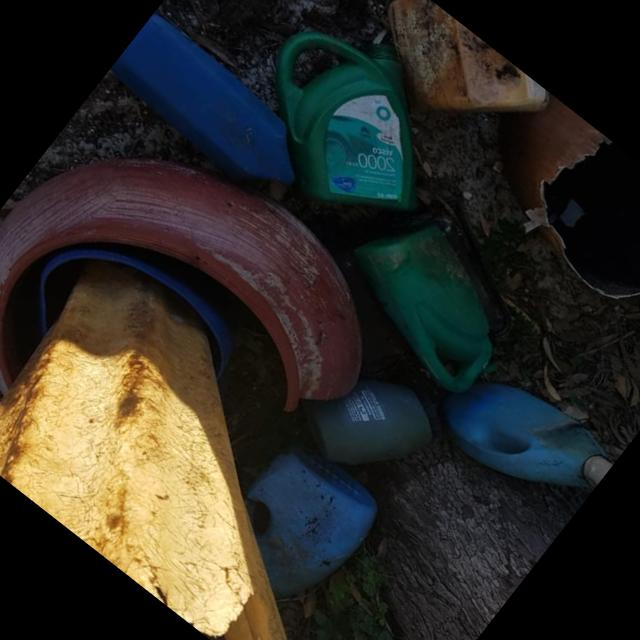Other litter: (0, 269, 290, 640), (511, 94, 640, 307)
Other plastic: (0, 150, 366, 415), (114, 8, 299, 192), (35, 243, 240, 380), (270, 30, 416, 216), (354, 225, 496, 395), (244, 442, 381, 602), (385, 0, 552, 115), (449, 379, 614, 490), (301, 381, 443, 469)
